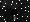person: (13, 7, 19, 20)
